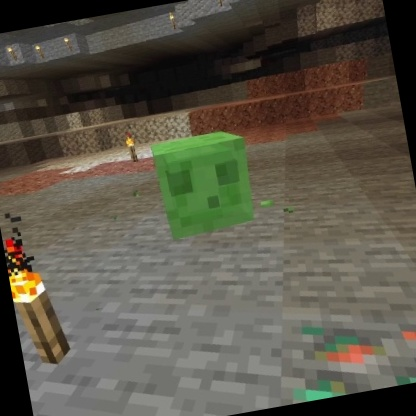slime: (145, 124, 262, 246)
